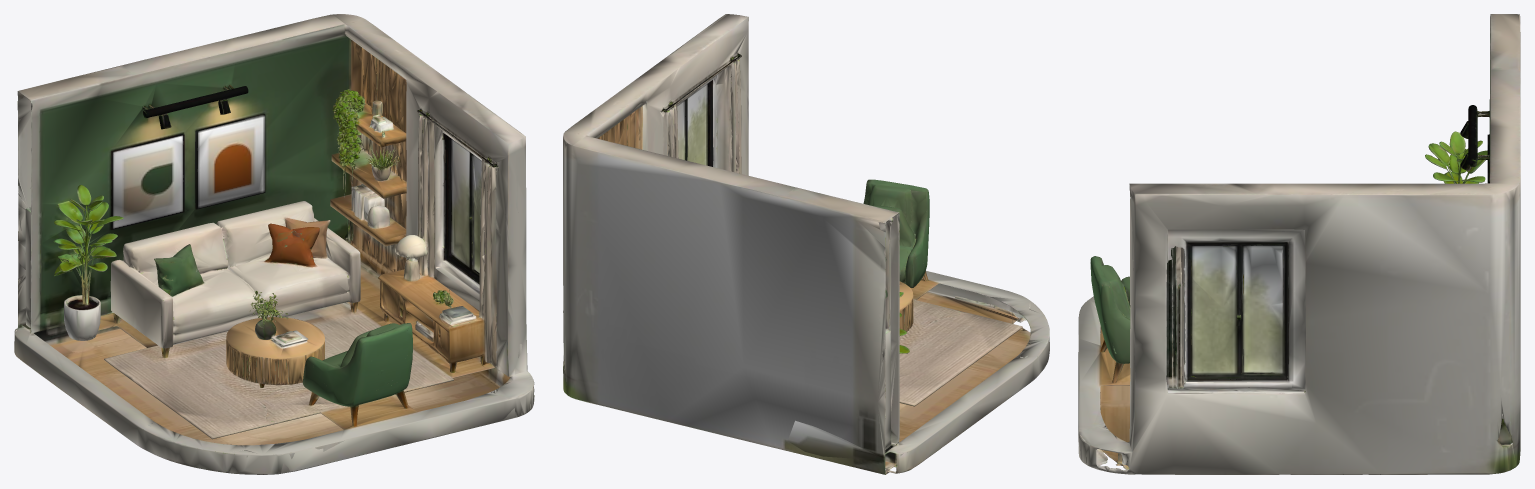
File: project3-v2.glb
3 renders of one model, left to right at view 1: azimuth 30°, elevation 25°; view 2: azimuth 150°, elevation 25°; view 3: azimuth 270°, elevation 25°, orthographic. The views are drawn at different scales.
Size of the model in its own units: 1.9 by 1.32 by 1.89.
1 material, 1 textured.
